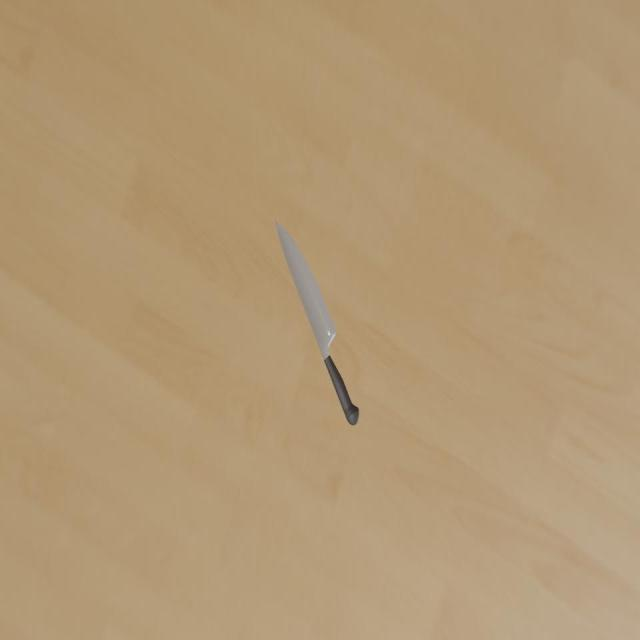knife: (324, 352, 359, 426)
